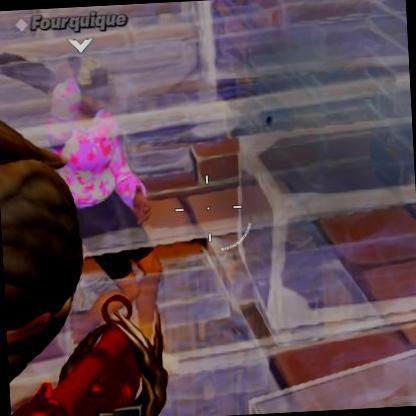person: (34, 52, 176, 317)
